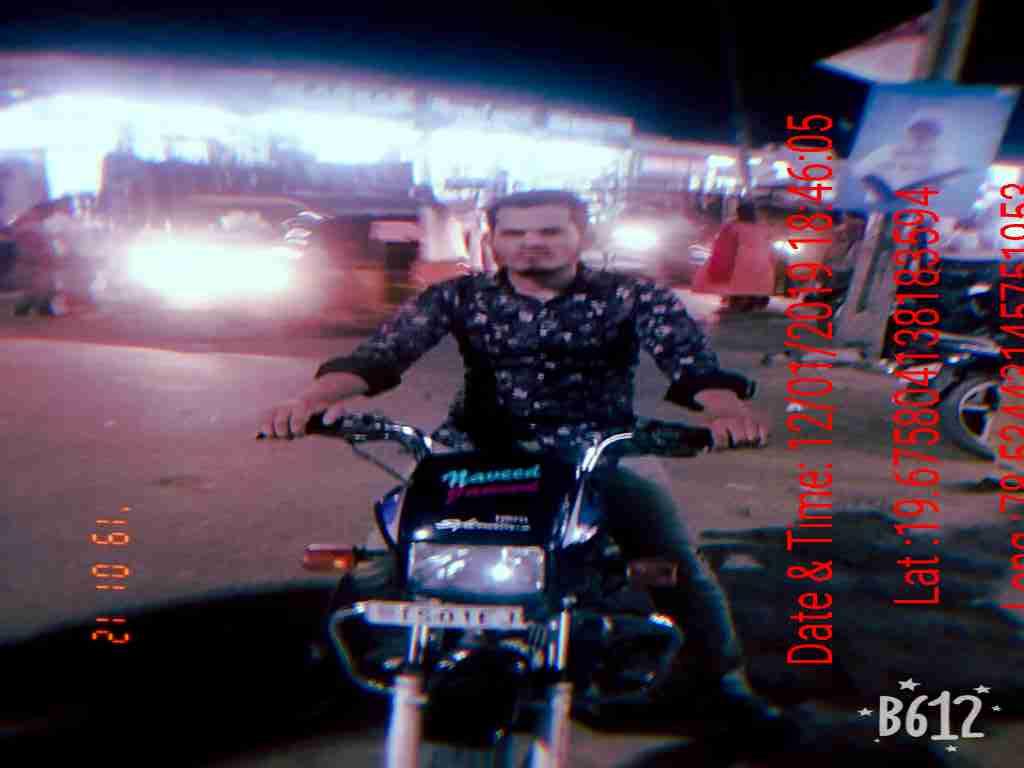plate: (371, 594, 540, 640)
